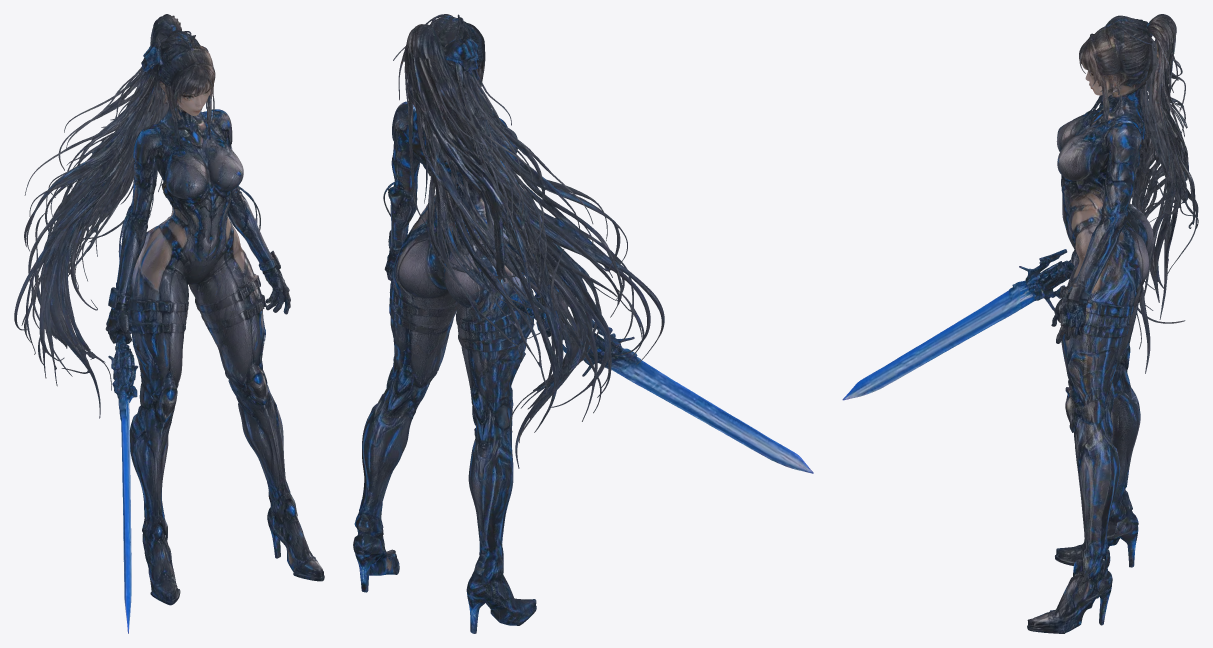
The model's file is evamodel.glb.
3 renders of one model, left to right at view 1: azimuth 30°, elevation 25°; view 2: azimuth 150°, elevation 25°; view 3: azimuth 270°, elevation 25°, orthographic. The views are drawn at different scales.
Visible parts, largest first — view 1: mesh_node; view 2: mesh_node; view 3: mesh_node.
Boxes of the visible parts, x1=… form: mesh_node: x1=14, y1=14, x2=324, y2=633; mesh_node: x1=353, y1=14, x2=813, y2=633; mesh_node: x1=842, y1=14, x2=1198, y2=633.
Bounding box in the file's own units: 1.07 × 1.9 × 1.08.
1 material, 1 textured.
